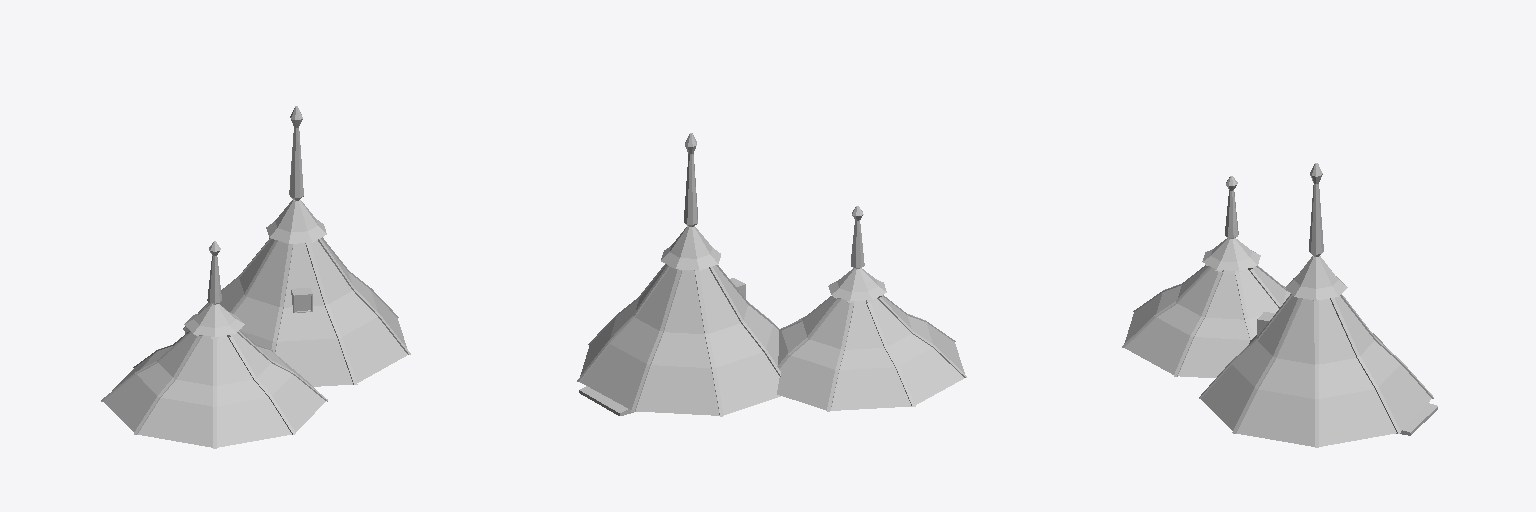
Rendered from teto_casa.obj.
3 views of the same model, side by side, from view 1: azimuth 30°, elevation 25°; view 2: azimuth 150°, elevation 25°; view 3: azimuth 270°, elevation 25° (orthographic).
Visible parts, largest first — view 1: Circle.004, Circle.001, Circle.002, Circle.005; view 2: Circle.001, Circle.004, Circle.002, Circle.005, Cube.001; view 3: Circle.001, Circle.004, Circle.002, Circle.005.
Boxes of the visible parts, x1=… form: Circle.004: x1=101, y1=328, x2=327, y2=448; Circle.001: x1=183, y1=237, x2=410, y2=386; Circle.002: x1=266, y1=106, x2=326, y2=243; Circle.005: x1=184, y1=241, x2=244, y2=336; Circle.001: x1=577, y1=264, x2=780, y2=416; Circle.004: x1=777, y1=294, x2=966, y2=411; Circle.002: x1=661, y1=133, x2=720, y2=270; Circle.005: x1=828, y1=206, x2=886, y2=300; Cube.001: x1=579, y1=386, x2=635, y2=415; Circle.001: x1=1199, y1=294, x2=1433, y2=447; Circle.004: x1=1122, y1=264, x2=1290, y2=377; Circle.002: x1=1285, y1=163, x2=1347, y2=300; Circle.005: x1=1202, y1=176, x2=1260, y2=270.
Size of the model in its own units: 9.6 by 6.94 by 8.2.